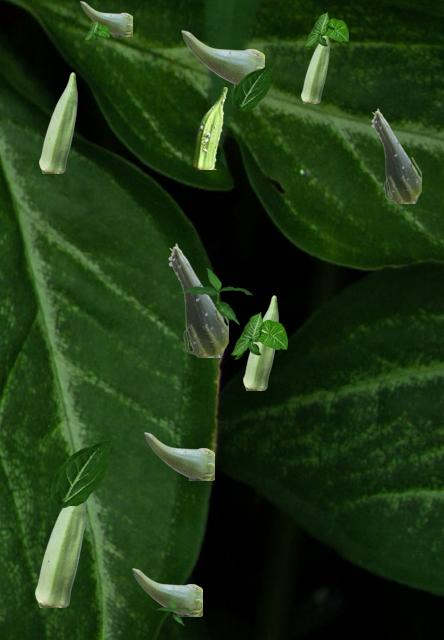okra: (168, 243, 227, 356), (35, 503, 84, 606), (371, 108, 420, 202), (181, 30, 263, 86), (39, 72, 76, 172), (132, 568, 201, 615), (144, 432, 213, 479), (243, 295, 277, 389), (193, 87, 226, 168), (301, 36, 328, 102), (80, 1, 131, 35)
